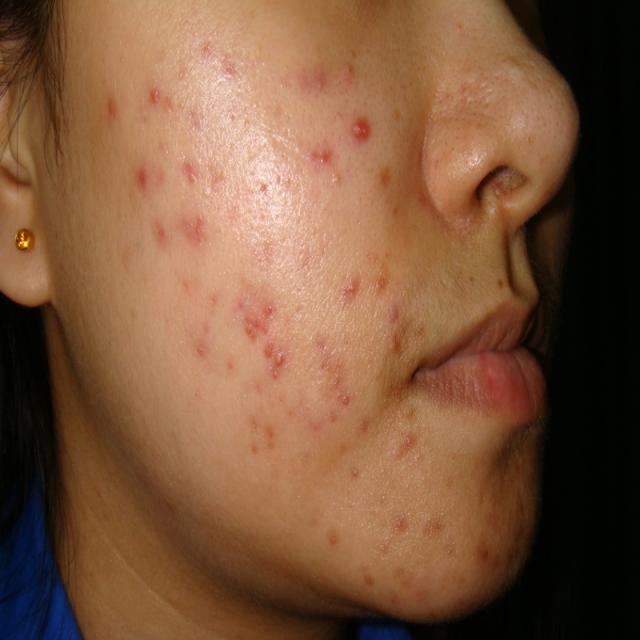Acne: (128, 212, 192, 279), (239, 300, 291, 378), (142, 73, 206, 130), (341, 116, 395, 177), (121, 154, 174, 200), (178, 144, 227, 191)
